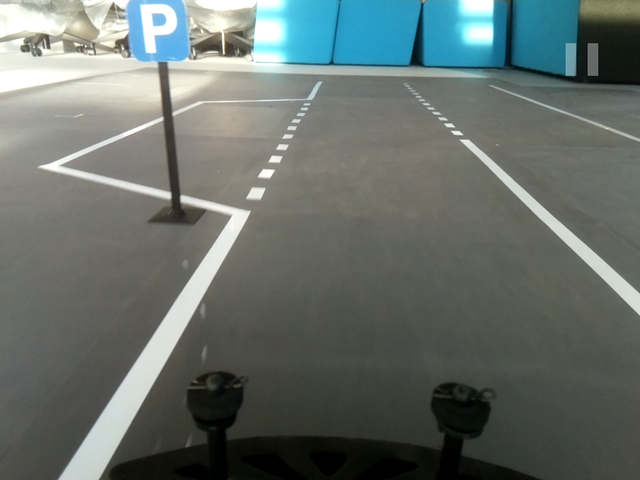parking: (126, 1, 189, 61)
